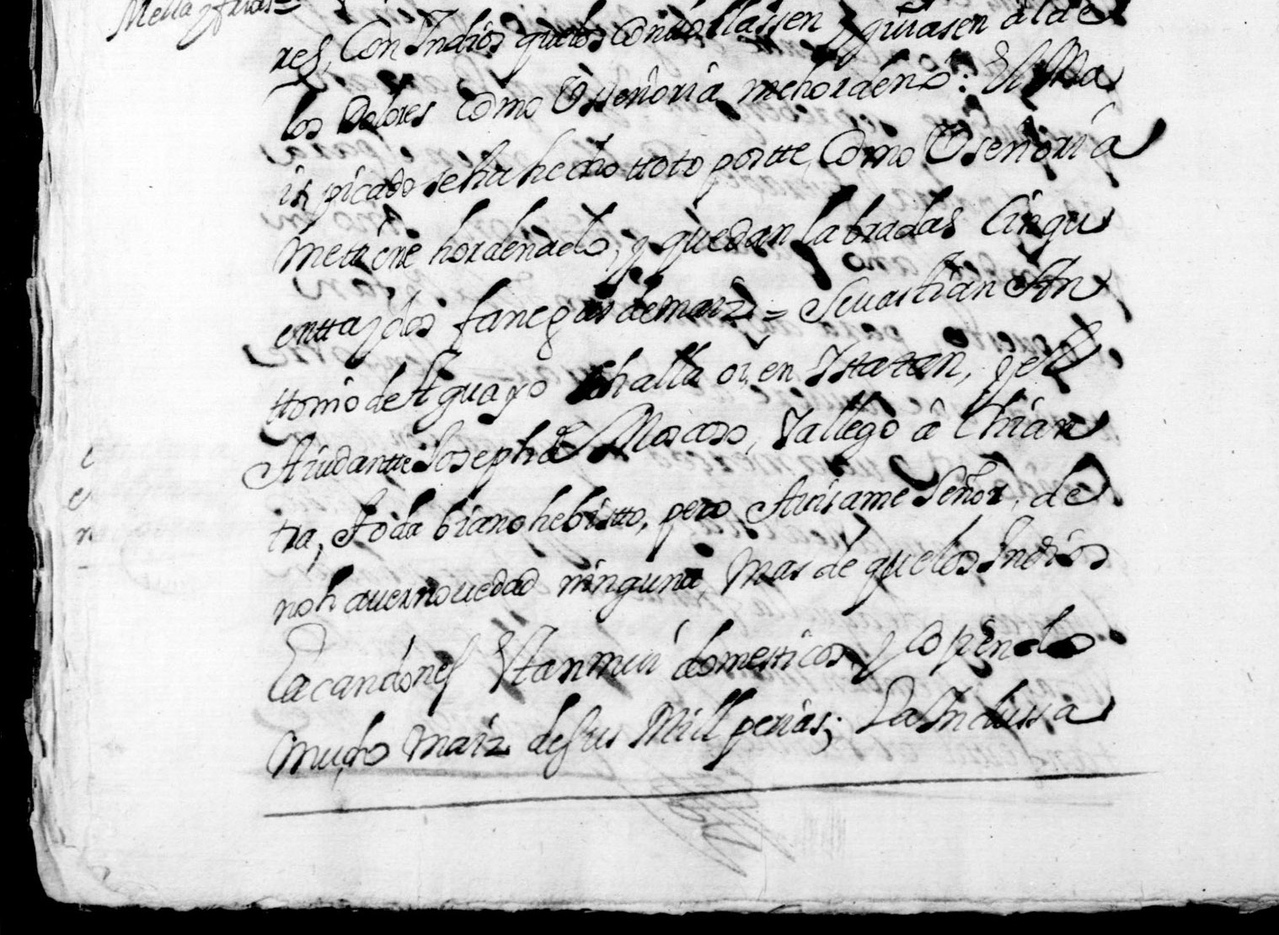lacandon: (267, 622, 479, 717)
